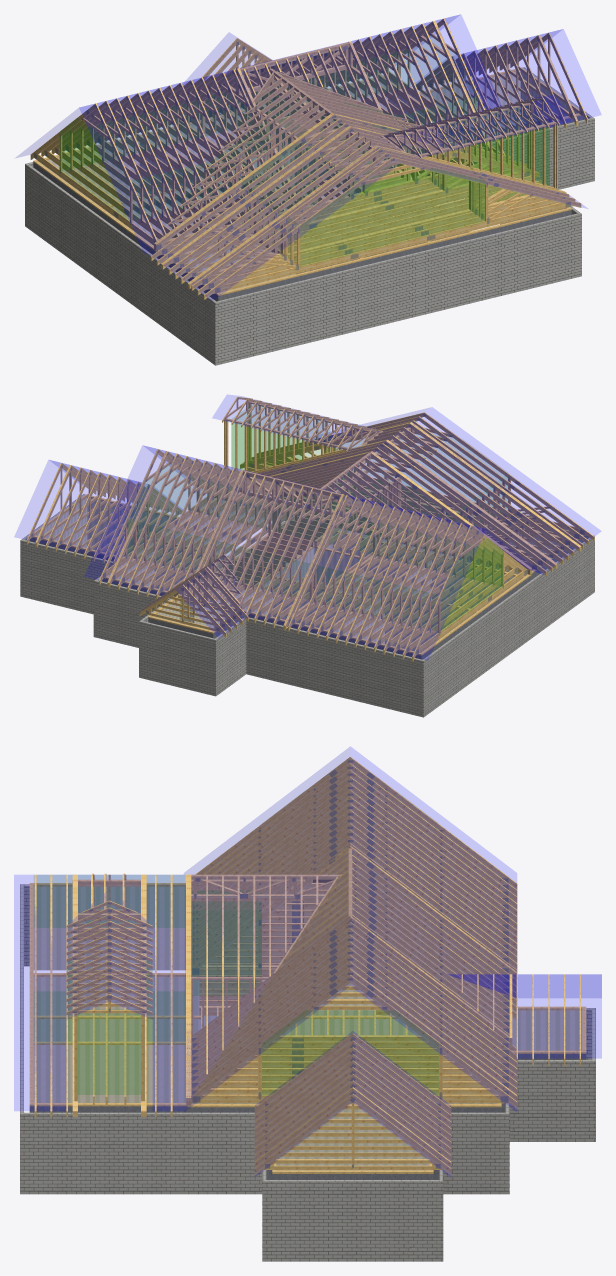
The model's file is model_0001_41108bfa.glb.
3 renders of one model, top to bottom at view 1: azimuth 30°, elevation 25°; view 2: azimuth 150°, elevation 25°; view 3: azimuth 270°, elevation 25°, orthographic. The views are drawn at different scales.
Visible parts, largest first — view 1: skfb_offset; view 2: skfb_offset; view 3: skfb_offset.
Part boxes in pixels (<box>): skfb_offset: <box>16,14,601,365</box>; skfb_offset: <box>14,395,600,717</box>; skfb_offset: <box>14,747,601,1261</box>.
Size of the model in its own units: 18325 by 5984 by 14945.
Materials: 11 (9 with a texture image).
